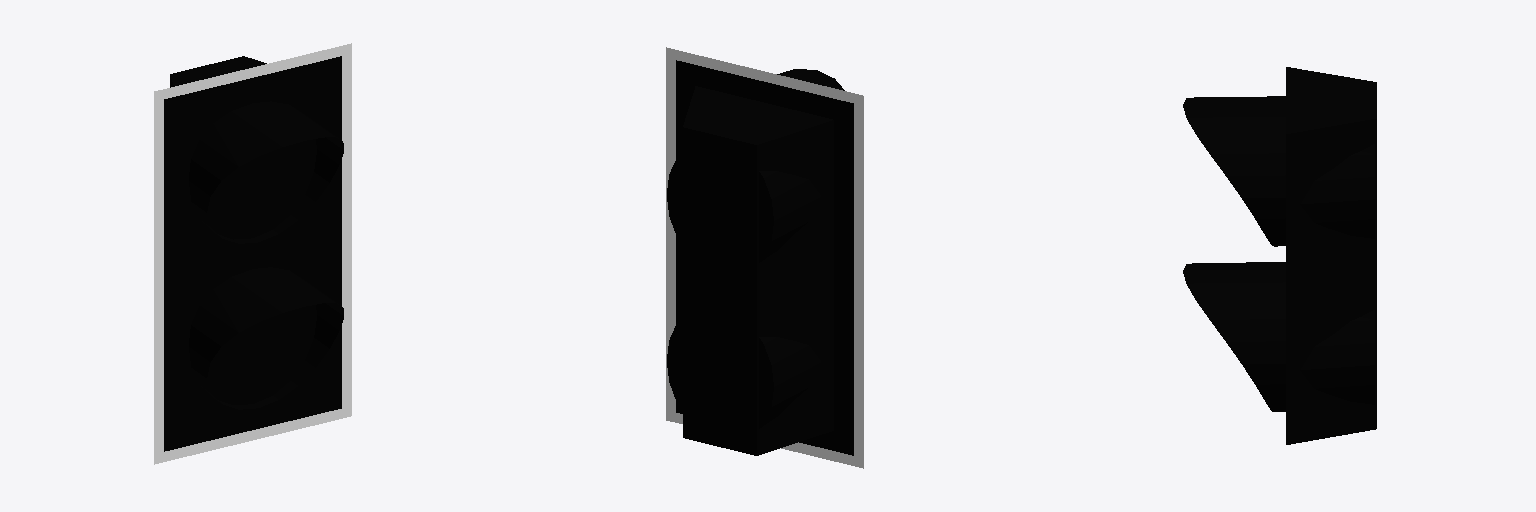
File: People2.obj
3 renders of one model, left to right at view 1: azimuth 30°, elevation 25°; view 2: azimuth 150°, elevation 25°; view 3: azimuth 270°, elevation 25°, orthographic.
Bounding box in the file's own units: 1.25 × 2.25 × 1.06.